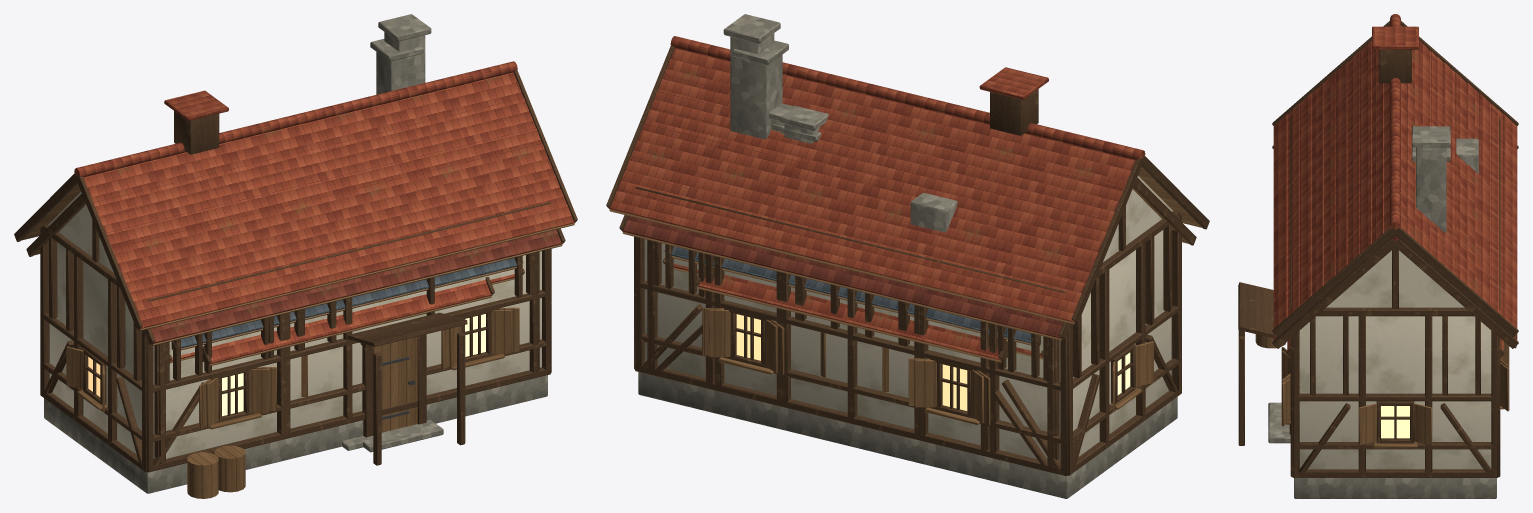
Rendered from village-buildings.glb.
3 renders of one model, left to right at view 1: azimuth 30°, elevation 25°; view 2: azimuth 150°, elevation 25°; view 3: azimuth 270°, elevation 25°, orthographic. The views are drawn at different scales.
Parts seen in each view (by area): view 1: orphanage, inn, bakery, forge; view 2: orphanage, inn, bakery, forge; view 3: orphanage, inn, forge.
Part boxes in pixels (left/top/right/bottom): orphanage: left=14, top=14, right=577, bottom=493; inn: left=26, top=39, right=565, bottom=498; bakery: left=202, top=276, right=494, bottom=450; forge: left=171, top=258, right=523, bottom=350; orphanage: left=606, top=14, right=1209, bottom=498; inn: left=619, top=40, right=1196, bottom=495; bakery: left=695, top=105, right=1007, bottom=391; forge: left=664, top=193, right=1040, bottom=345; orphanage: left=1268, top=14, right=1518, bottom=498; inn: left=1238, top=145, right=1518, bottom=445; forge: left=1456, top=138, right=1478, bottom=173.
Bounding box in the file's own units: 8.91 × 6.58 × 5.05.
Materials: 53 (45 with a texture image).
